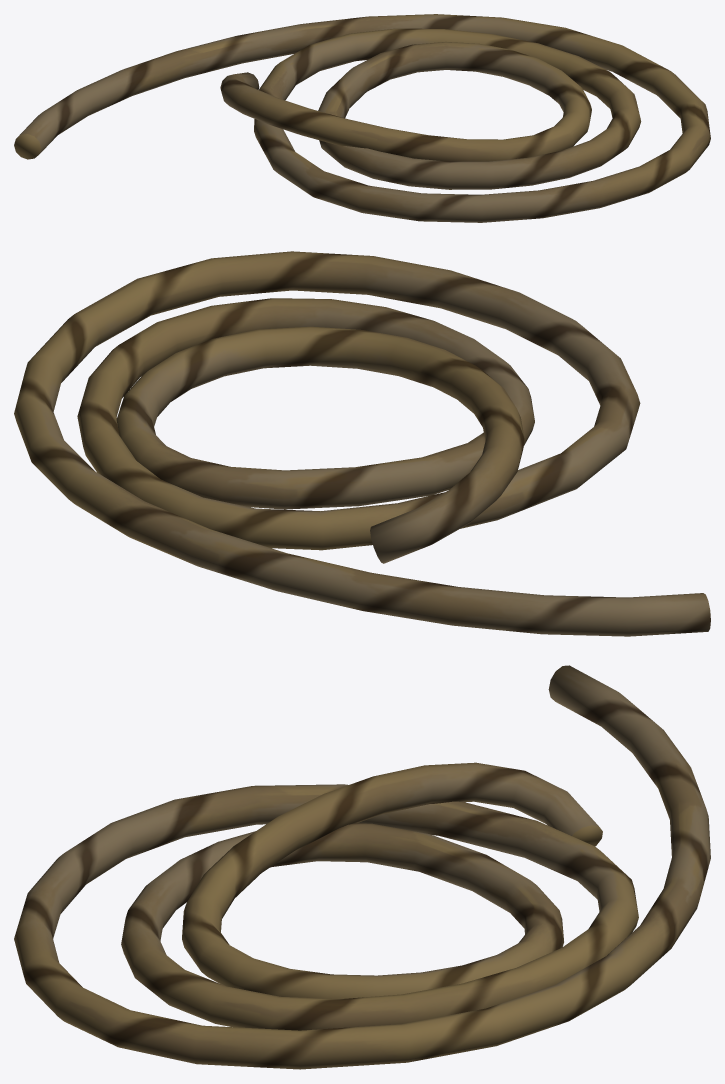
The model's file is rope-3.glb.
The picture shows the model from 3 angles, top to bottom: view 1: azimuth 30°, elevation 25°; view 2: azimuth 150°, elevation 25°; view 3: azimuth 270°, elevation 25°; orthographic projection. The views are drawn at different scales.
Visible parts, largest first — view 1: Rope_3; view 2: Rope_3; view 3: Rope_3.
Part boxes in pixels (x1=…): Rope_3: x1=14, y1=14, x2=710, y2=222; Rope_3: x1=14, y1=251, x2=710, y2=636; Rope_3: x1=14, y1=665, x2=710, y2=1069.
Bounding box in the file's own units: 1.23 × 0.1018 × 0.9508.
1 material, 1 textured.
